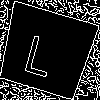L: (21, 26, 60, 78)
